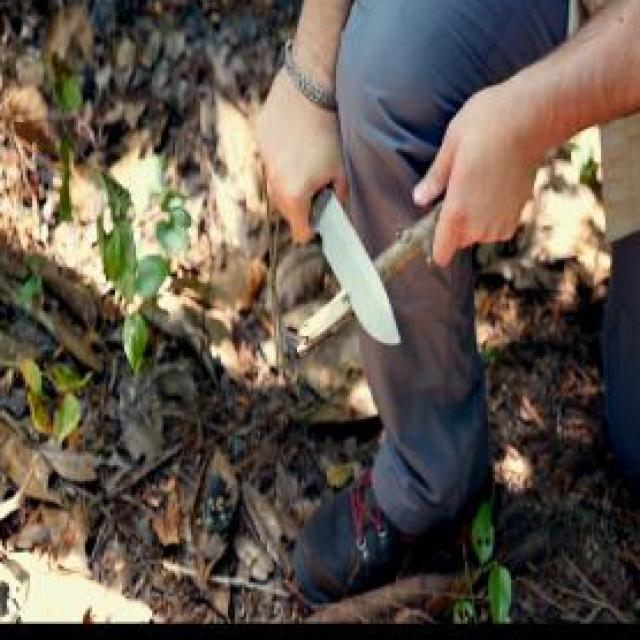knife: (262, 154, 408, 357)
